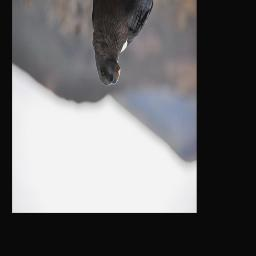Crow: (90, 0, 169, 89)
